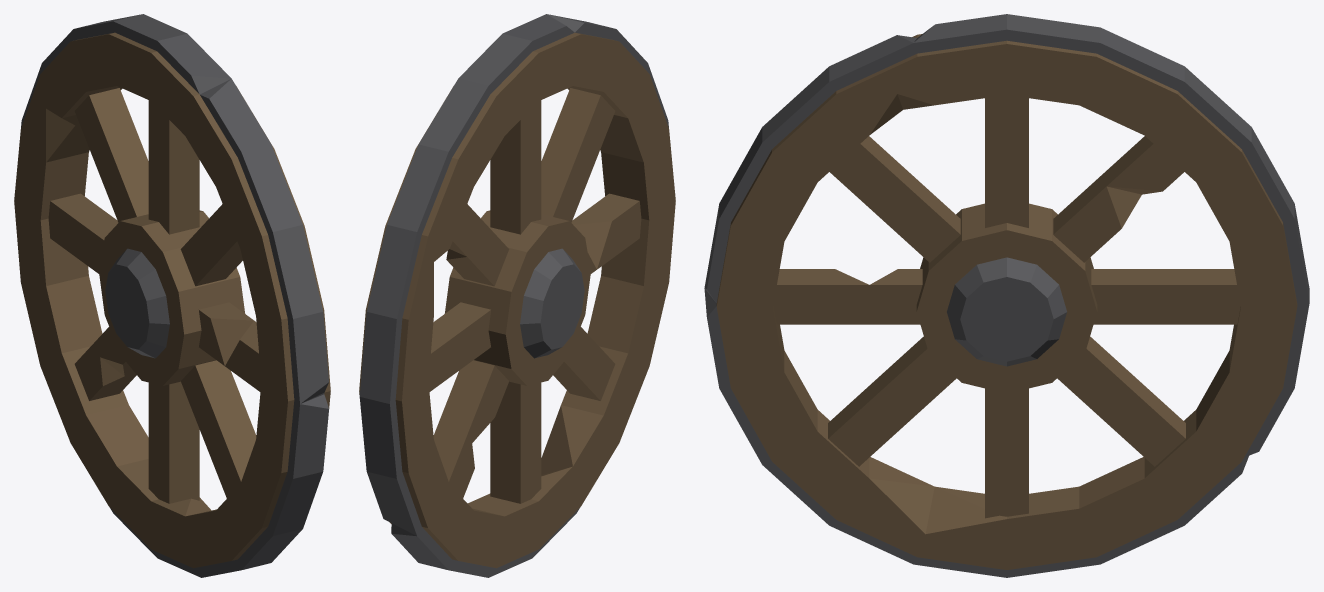
Rendered from SM_Prop_CartWheel_01.gltf.
The picture shows the model from 3 angles, left to right: view 1: azimuth 30°, elevation 25°; view 2: azimuth 150°, elevation 25°; view 3: azimuth 270°, elevation 25°; orthographic projection. The views are drawn at different scales.
Visible parts, largest first — view 1: SM_Prop_CartWheel_01; view 2: SM_Prop_CartWheel_01; view 3: SM_Prop_CartWheel_01.
Part boxes in pixels (<box>): SM_Prop_CartWheel_01: <box>14,14,330,577</box>; SM_Prop_CartWheel_01: <box>359,14,675,577</box>; SM_Prop_CartWheel_01: <box>704,14,1309,577</box>.
Bounding box in the file's own units: 0.1749 × 0.957 × 0.957.
1 material, 1 textured.
